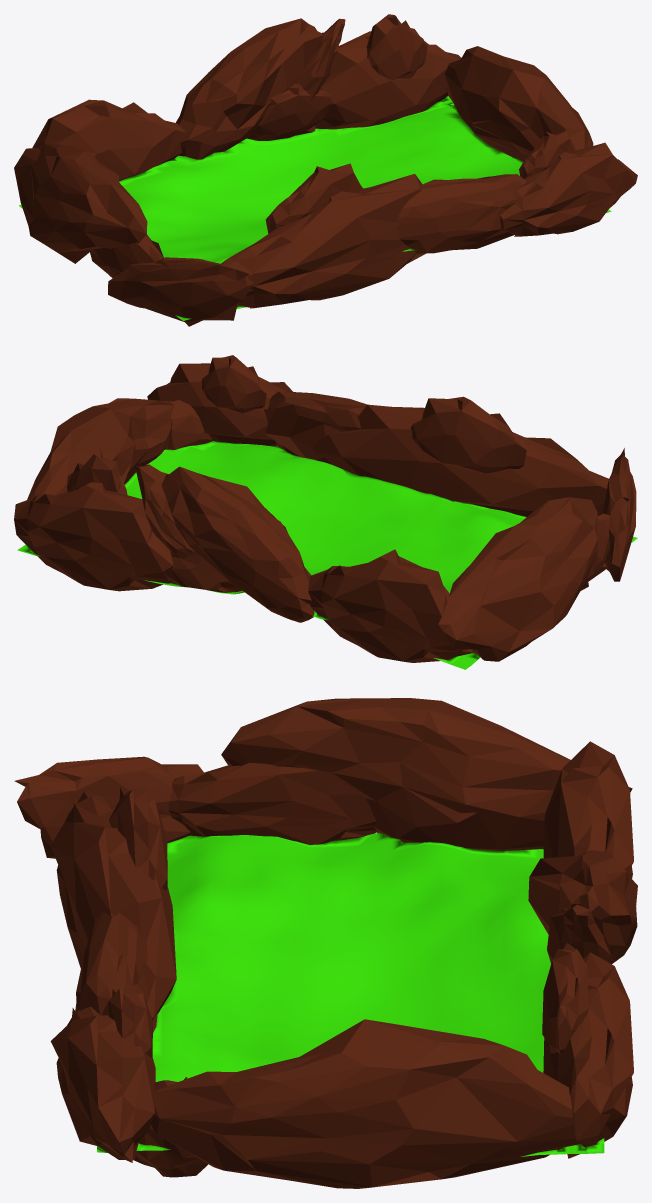
Rendered from tutoriallevel.fbx.
3 renders of one model, top to bottom at view 1: azimuth 30°, elevation 25°; view 2: azimuth 150°, elevation 25°; view 3: azimuth 270°, elevation 25°, orthographic. The views are drawn at different scales.
Parts seen in each view (by area): view 1: Landscape.009; view 2: Landscape.009; view 3: Landscape.009.
Part boxes in pixels (bbox=[...]): Landscape.009: bbox=[14, 14, 637, 326]; Landscape.009: bbox=[14, 355, 637, 669]; Landscape.009: bbox=[14, 698, 637, 1188].
Size of the model in its own units: 17487 by 4585 by 12303.
